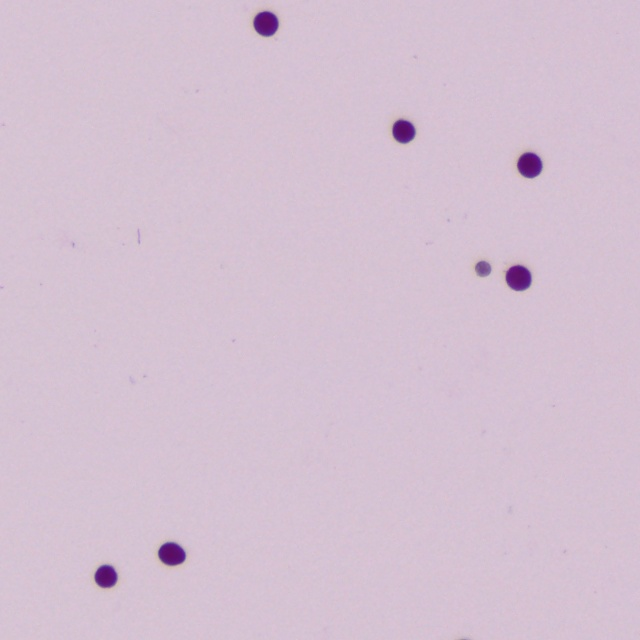viable: (506, 266, 531, 290), (254, 12, 278, 36), (518, 153, 542, 177), (159, 543, 185, 565), (393, 120, 415, 143), (95, 566, 117, 588)
